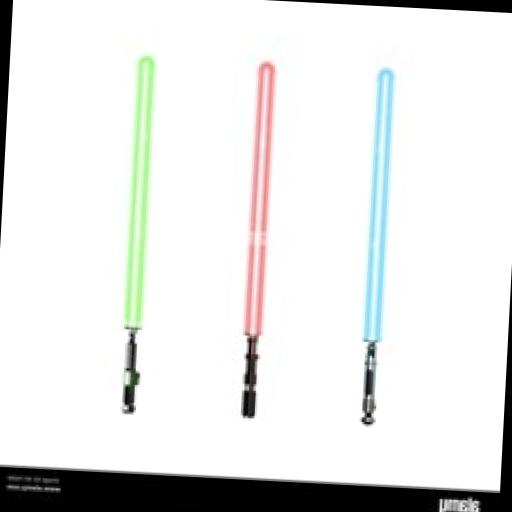lightsaber: (116, 54, 158, 415), (357, 68, 398, 429)
sith saber: (236, 60, 278, 419)
